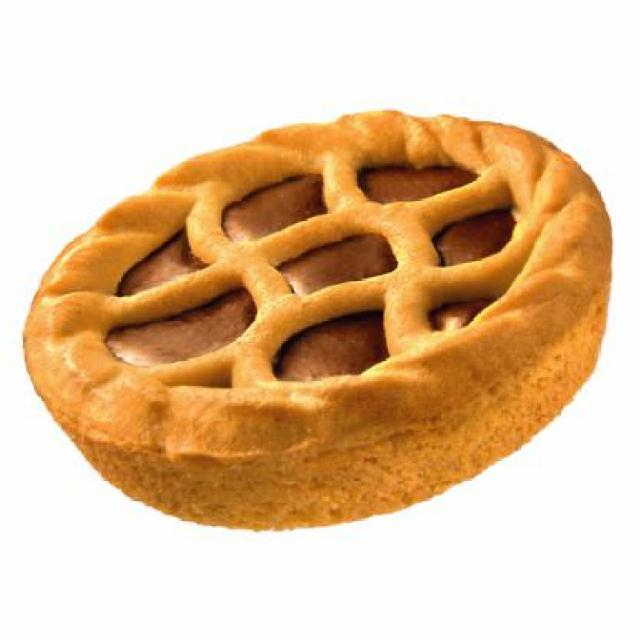Merendine packaged: (23, 111, 609, 531)
